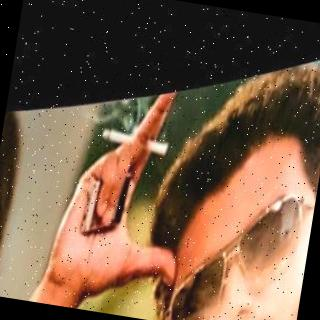smoke: (209, 304, 261, 320)
